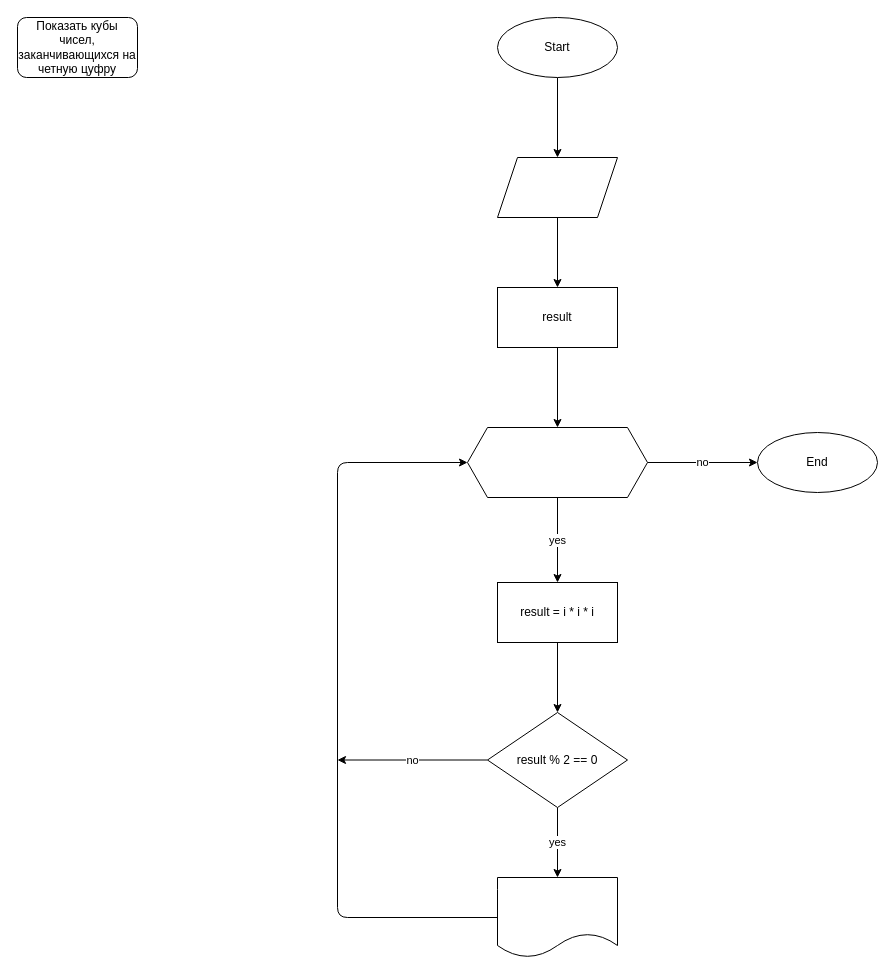
Some shapes in this 895 by 975 pixel diagram are drawn without their labels. The box of each missing label's shape, as (x1, y1, x2, y2) in pixels:
finishNumber: (496, 156, 618, 218)
i = 0; i < finishNumber; i++: (466, 426, 648, 498)
Print result: (496, 876, 618, 958)
